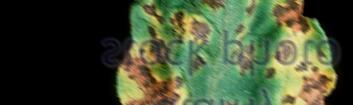Tomato Septoria leaf spot: (87, 0, 353, 105)
